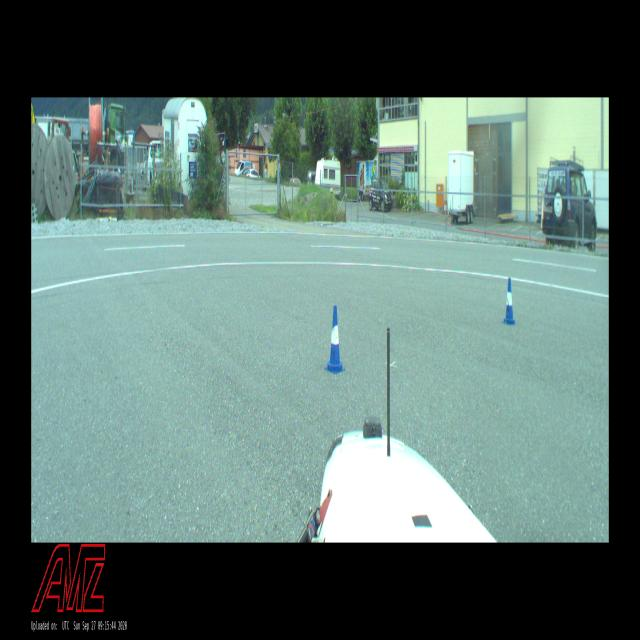blue_cone: (326, 306, 344, 374), (502, 278, 516, 326)
